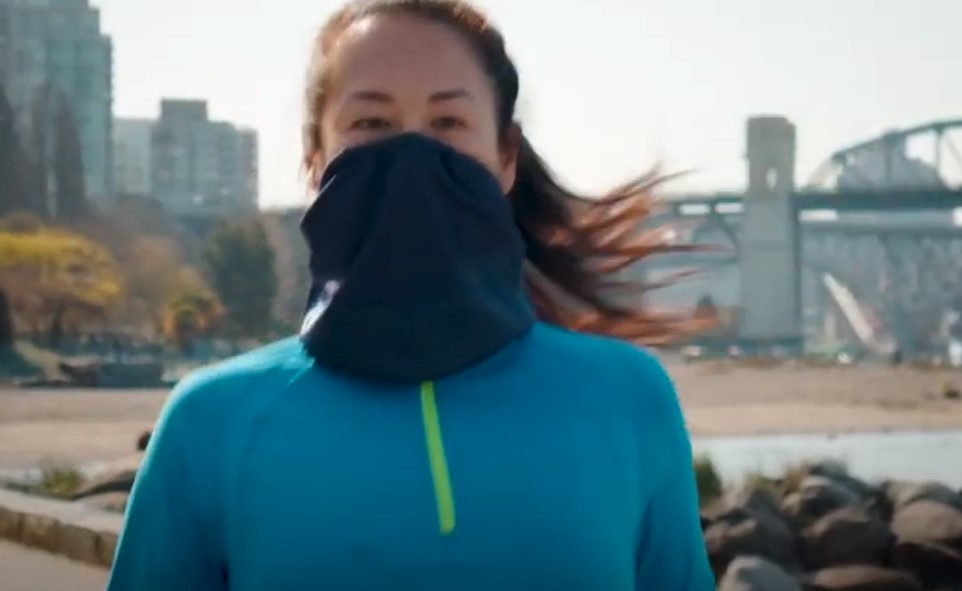face_with_mask: (295, 9, 517, 279)
